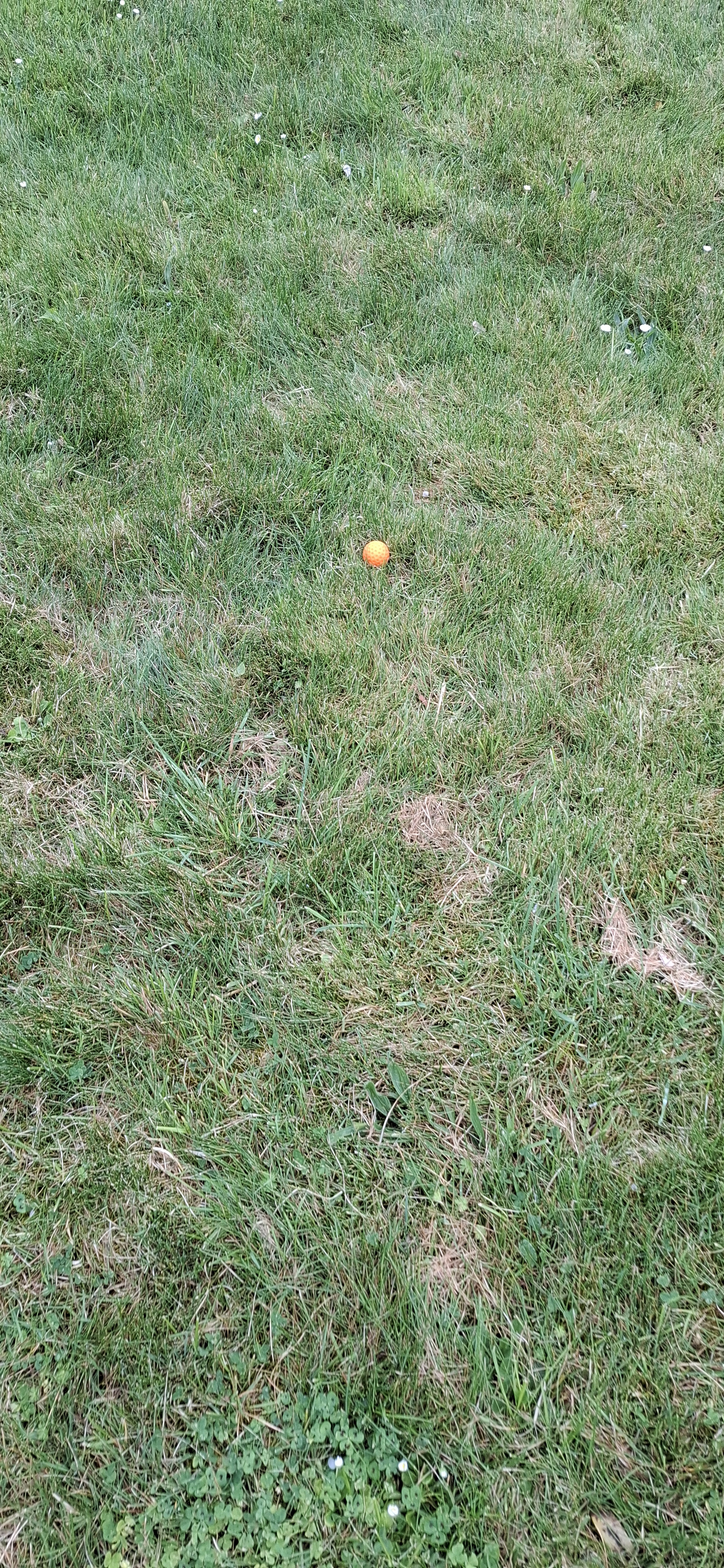ball: (249, 724, 263, 783)
